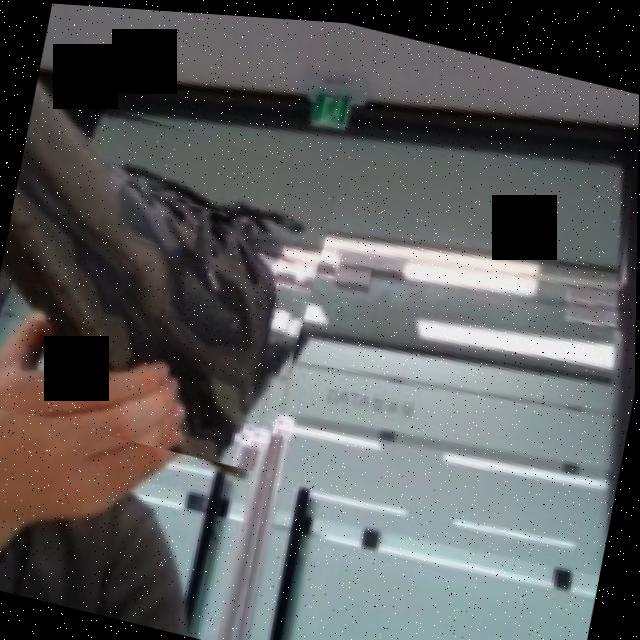shoe: (0, 82, 346, 477)
